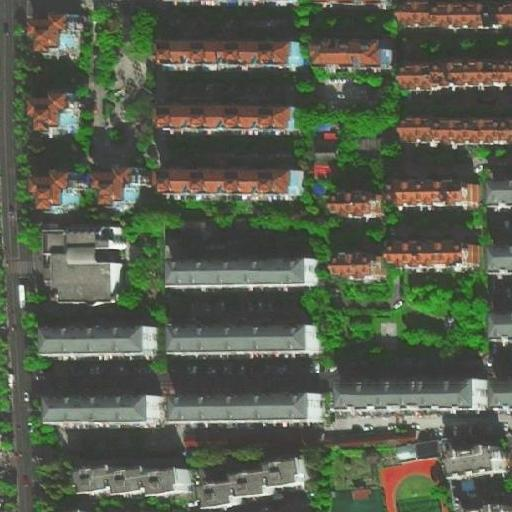building: (182, 421, 417, 458), (48, 228, 123, 304), (204, 453, 307, 505), (343, 380, 494, 412), (162, 171, 305, 200), (176, 397, 319, 426), (76, 466, 193, 501), (163, 39, 303, 68), (161, 107, 299, 136), (180, 327, 318, 356), (173, 261, 314, 289), (39, 328, 156, 358), (50, 396, 165, 426), (401, 60, 512, 90), (400, 117, 512, 144), (384, 244, 484, 274), (23, 170, 82, 215), (388, 183, 479, 211), (400, 5, 512, 26), (317, 41, 394, 71), (443, 441, 507, 477), (30, 88, 80, 132), (90, 167, 141, 208), (37, 17, 79, 56), (330, 192, 386, 219), (333, 253, 387, 281), (479, 177, 512, 203), (460, 497, 511, 512), (347, 127, 377, 152), (483, 309, 512, 334), (314, 125, 339, 151)
